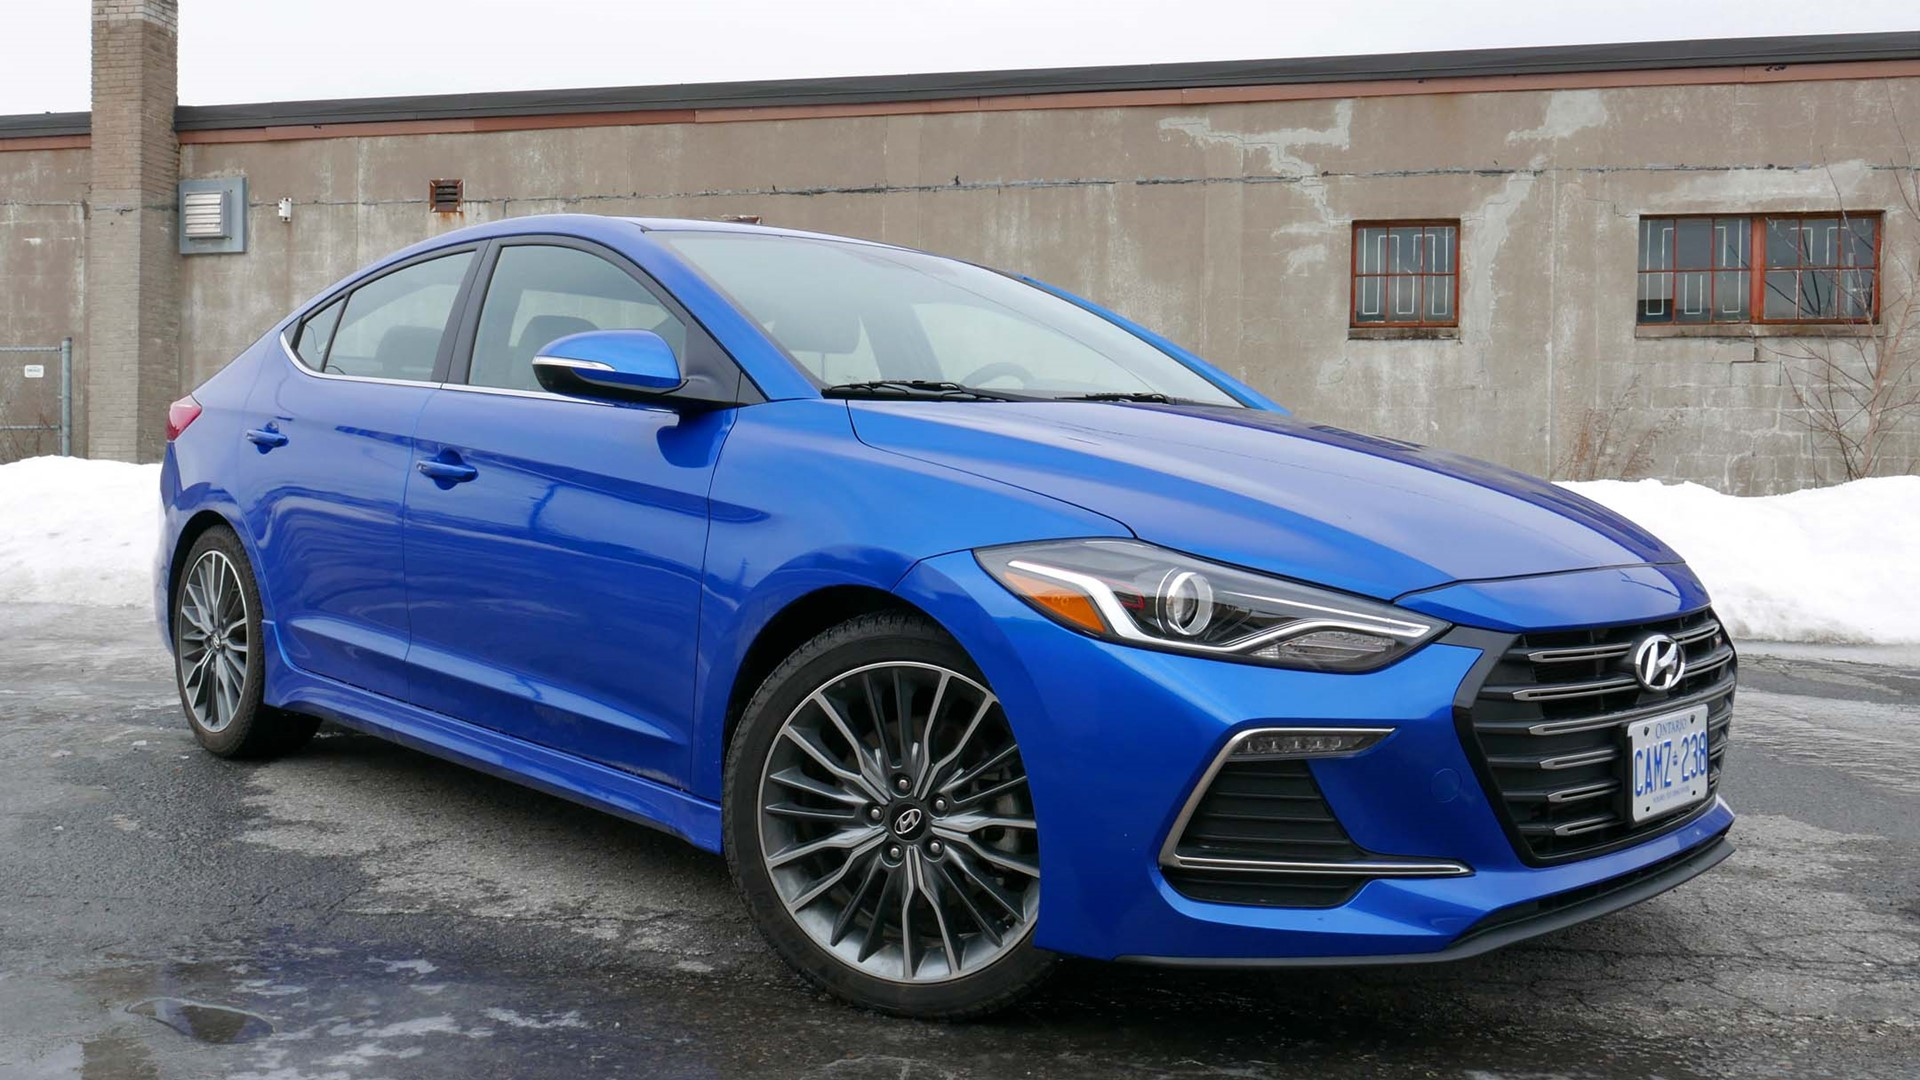elantra: (115, 202, 1771, 1021)
